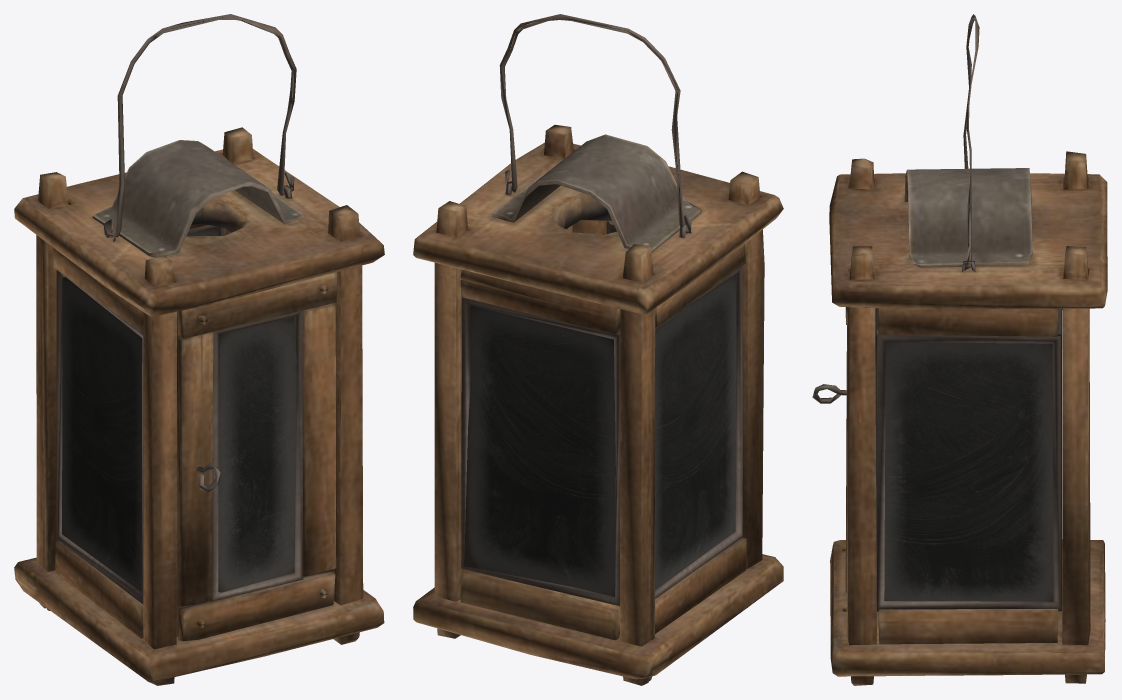
Rendered from wooden_lantern_01.glb.
The picture shows the model from 3 angles, left to right: view 1: azimuth 30°, elevation 25°; view 2: azimuth 150°, elevation 25°; view 3: azimuth 270°, elevation 25°; orthographic projection.
Parts seen in each view (by area): view 1: wooden_lantern_01, wooden_lantern_01_door, wooden_lantern_01_handle; view 2: wooden_lantern_01, wooden_lantern_01_handle, wooden_lantern_01_door; view 3: wooden_lantern_01, wooden_lantern_01_handle, wooden_lantern_01_door.
Boxes of the visible parts, left/top/right/bottom form: wooden_lantern_01: left=14, top=127, right=384, bottom=685; wooden_lantern_01_door: left=176, top=272, right=337, bottom=641; wooden_lantern_01_handle: left=103, top=14, right=296, bottom=237; wooden_lantern_01: left=413, top=124, right=783, bottom=685; wooden_lantern_01_handle: left=499, top=14, right=691, bottom=232; wooden_lantern_01_door: left=573, top=220, right=616, bottom=234; wooden_lantern_01: left=829, top=151, right=1107, bottom=685; wooden_lantern_01_handle: left=963, top=14, right=979, bottom=268; wooden_lantern_01_door: left=812, top=307, right=847, bottom=611.
Bounding box in the file's own units: 0.2208 × 0.5278 × 0.2334.
2 materials, 2 textured.
